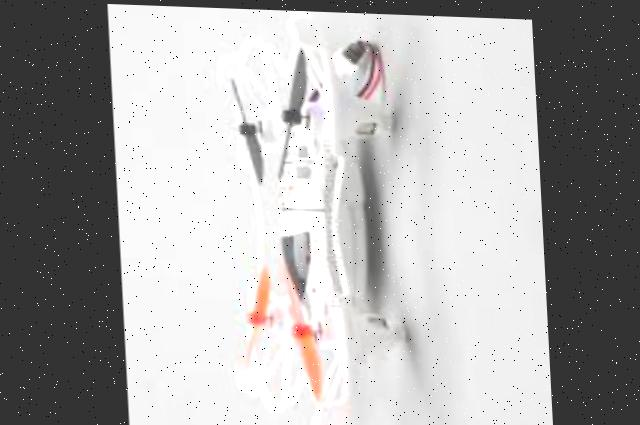drone: (204, 6, 424, 425)
